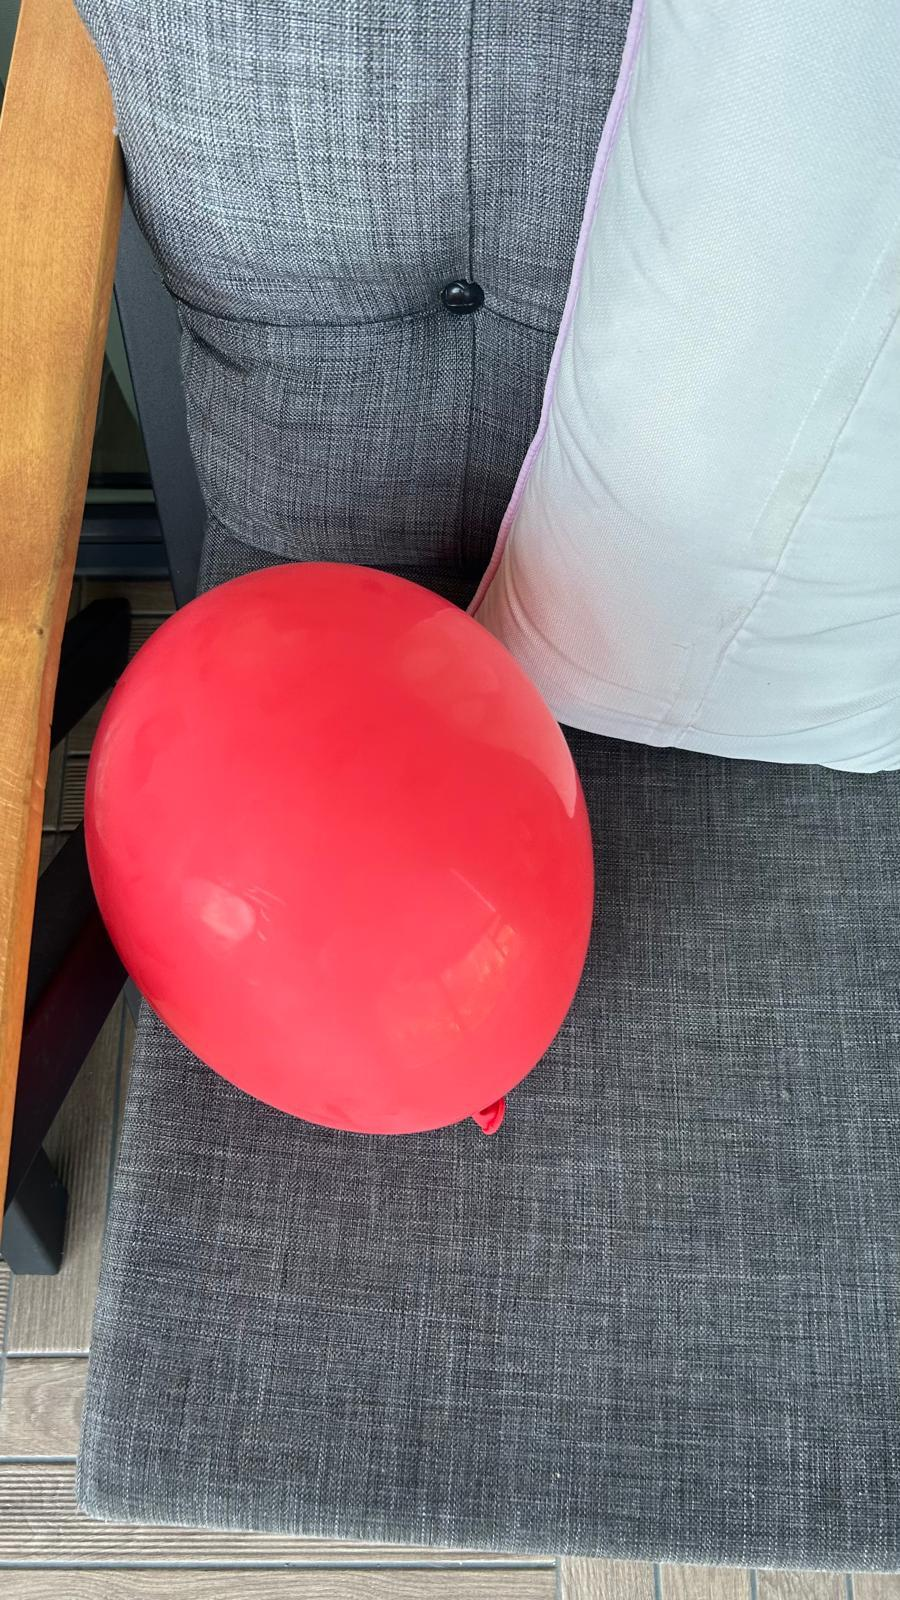red: (80, 554, 596, 1134)
